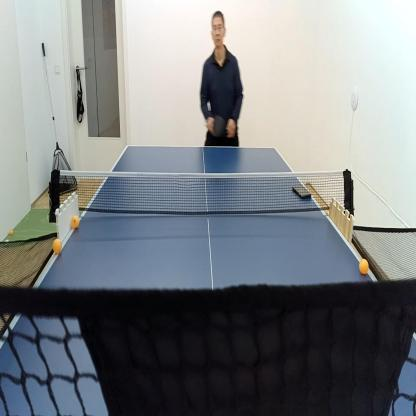Ball: (360, 256, 369, 276), (53, 238, 62, 253), (72, 215, 79, 228), (8, 229, 13, 236), (4, 239, 9, 244)
